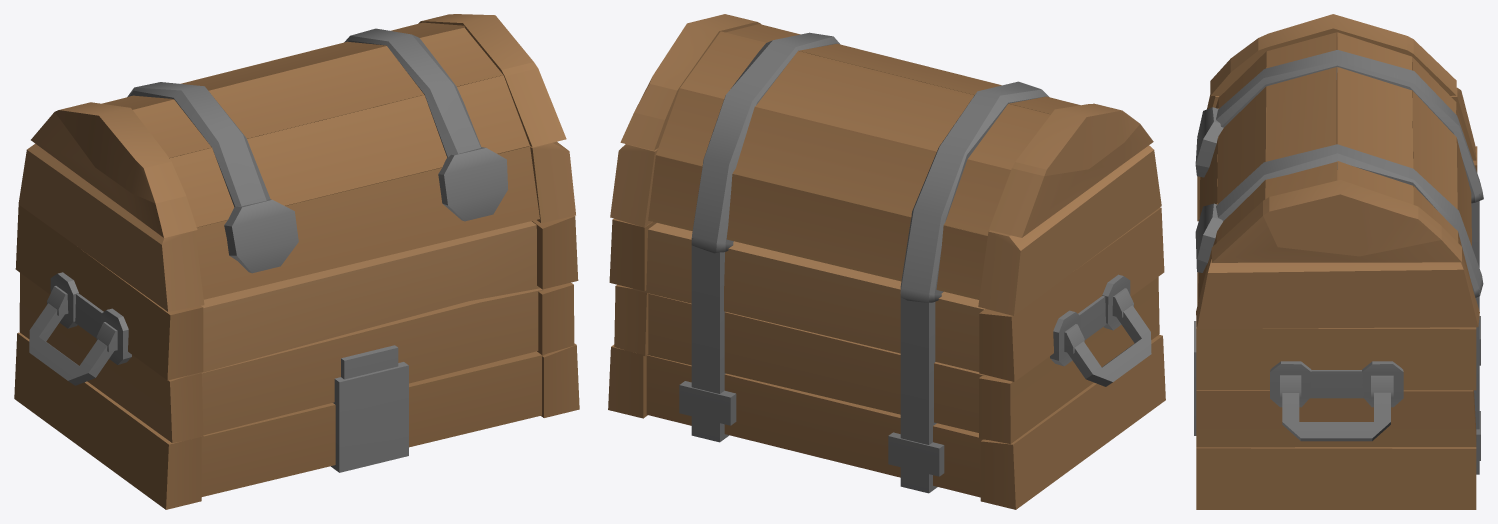
The model's file is Box_Wood_D.fbx.
The picture shows the model from 3 angles, left to right: view 1: azimuth 30°, elevation 25°; view 2: azimuth 150°, elevation 25°; view 3: azimuth 270°, elevation 25°; orthographic projection. The views are drawn at different scales.
Parts seen in each view (by area): view 1: Box_Wood_D; view 2: Box_Wood_D; view 3: Box_Wood_D.
Part boxes in pixels (x1,y1,x2,y2): Box_Wood_D: (14, 14, 579, 509); Box_Wood_D: (608, 14, 1165, 509); Box_Wood_D: (1194, 14, 1483, 509).
Bounding box in the file's own units: 109 × 72.29 × 59.58.
